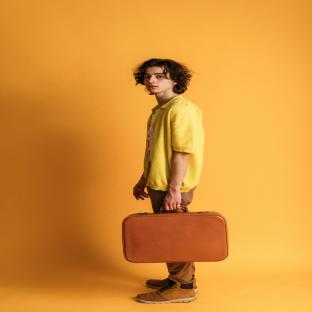Human: (133, 59, 204, 213), (137, 262, 198, 303)
